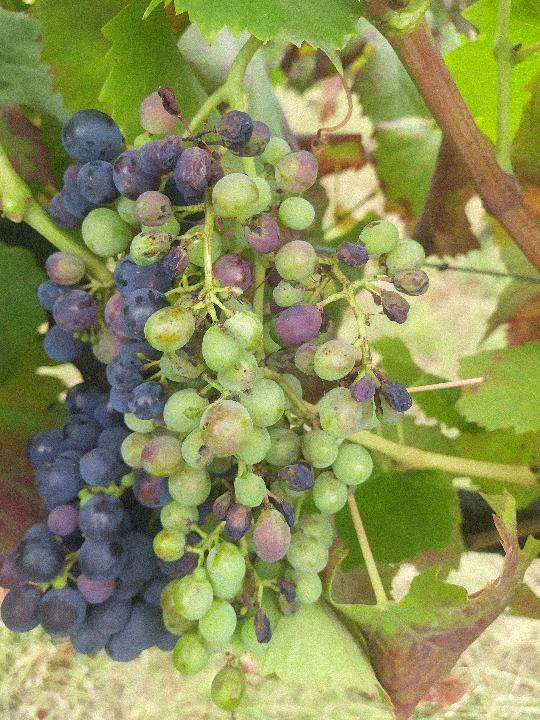grape: (39, 85, 428, 715)
